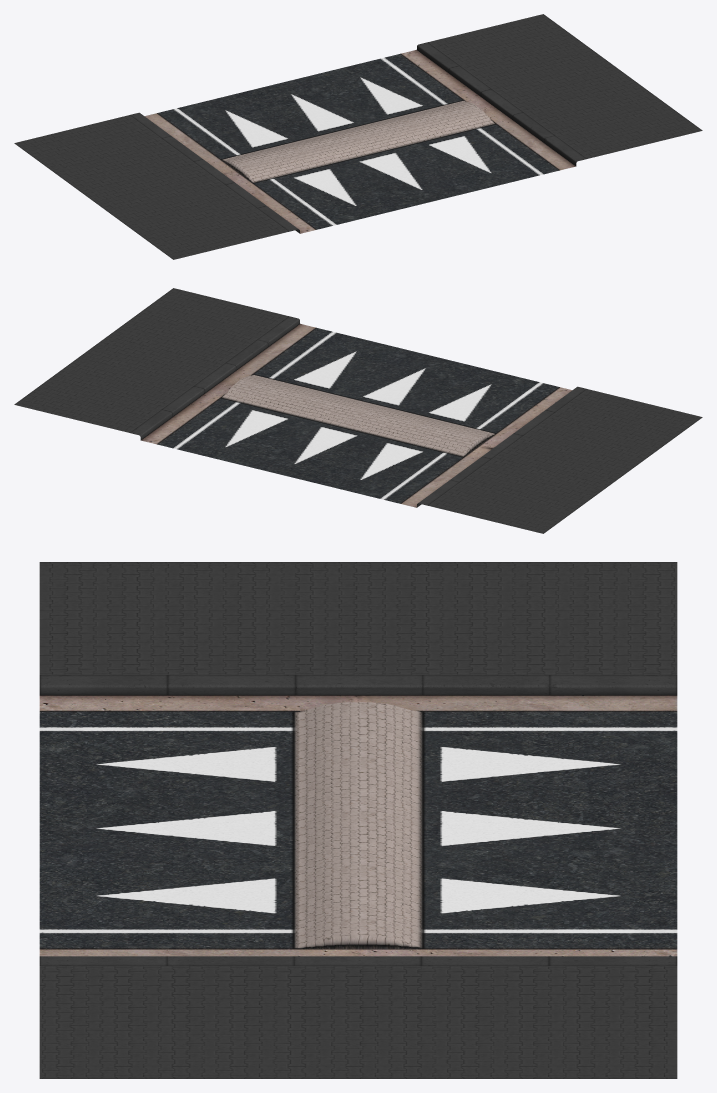
File: or_city_bump2.fbx
3 views of the same model, one above another, from view 1: azimuth 30°, elevation 25°; view 2: azimuth 150°, elevation 25°; view 3: azimuth 270°, elevation 25° (orthographic). The views are drawn at different scales.
Parts seen in each view (by area): view 1: obj0; view 2: obj0; view 3: obj0.
Part boxes in pixels (x1,y1,x2,y2): obj0: [14, 14, 702, 259]; obj0: [14, 288, 702, 533]; obj0: [39, 562, 677, 1078].
Bounding box in the file's own units: 29.21 × 0.2921 × 15.24.
